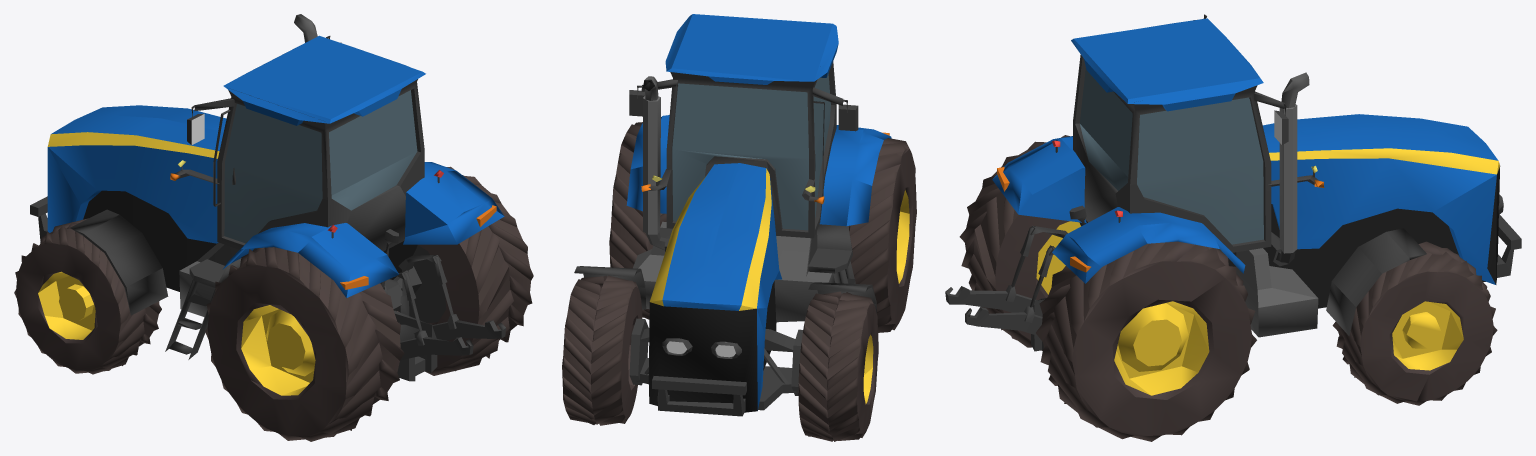
Rendered from truck.glb.
3 views of the same model, side by side, from view 1: azimuth 30°, elevation 25°; view 2: azimuth 150°, elevation 25°; view 3: azimuth 270°, elevation 25° (orthographic). The views are drawn at different scales.
Visible parts, largest first — view 1: tractor_001; view 2: tractor_001; view 3: tractor_001.
Boxes of the visible parts, x1,y1,x2,y2 form: tractor_001: (14, 14, 533, 441); tractor_001: (562, 14, 916, 441); tractor_001: (945, 14, 1521, 441).
Bounding box in the file's own units: 3.58 × 2.86 × 4.58.
1 material, 1 textured.
